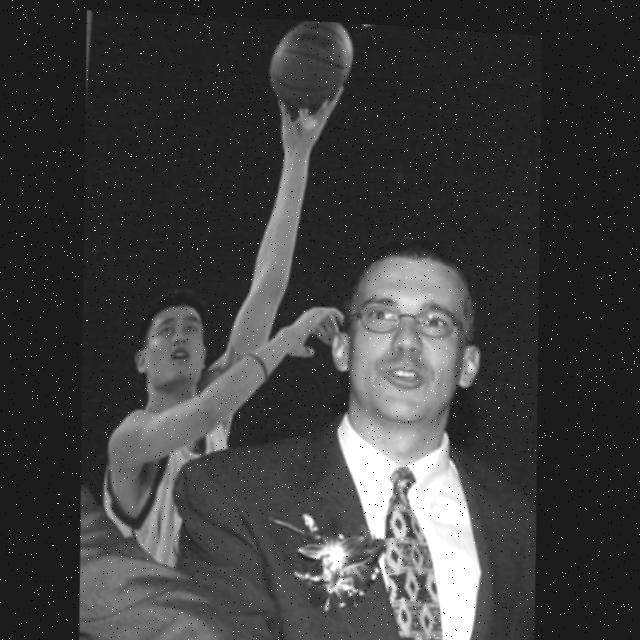face: (336, 258, 480, 425), (135, 303, 215, 400)
